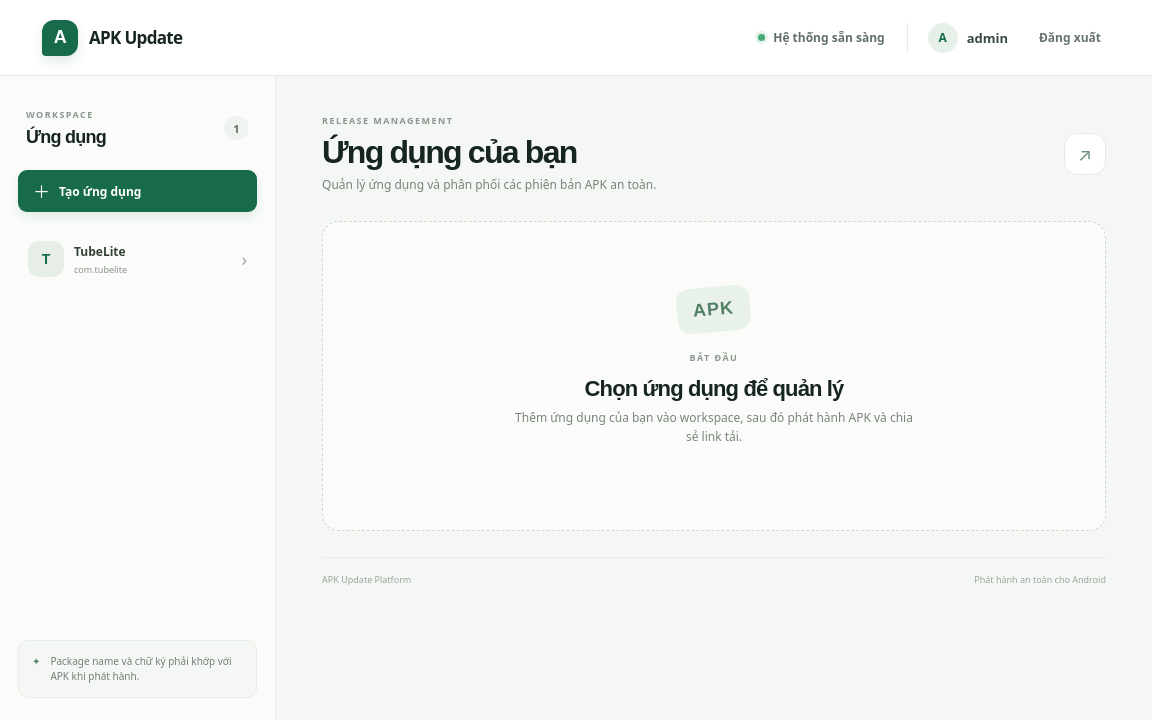
APK administration console › returns to login when the server expires an admin session
This screenshot has width=1152, height=720.
expect the heading "Ứng dụng của bạn" is shown: met, box [322, 134, 576, 170]
Click the button "T TubeLite com.tubelite ›" at (138, 259), box [18, 230, 257, 288]
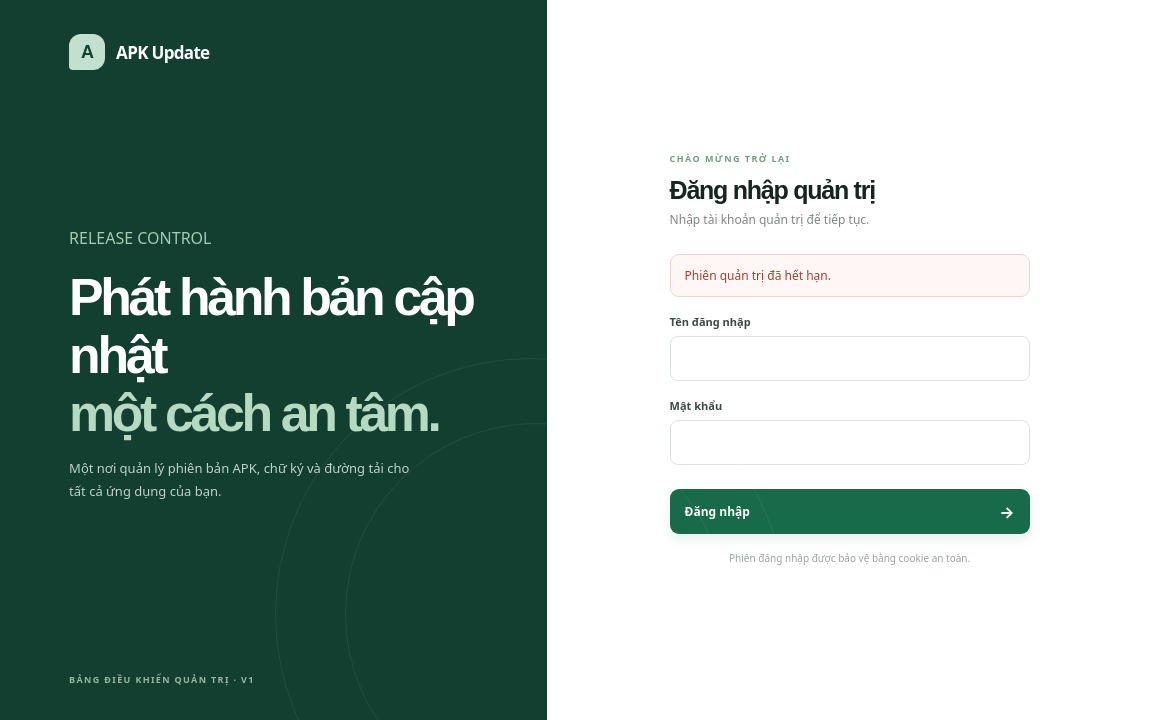
expect the heading "Đăng nhập quản trị" is shown: met, box [670, 176, 875, 204]
expect the message reads "Phiên quản trị đã hết hạn.": met, box [685, 267, 831, 284]
